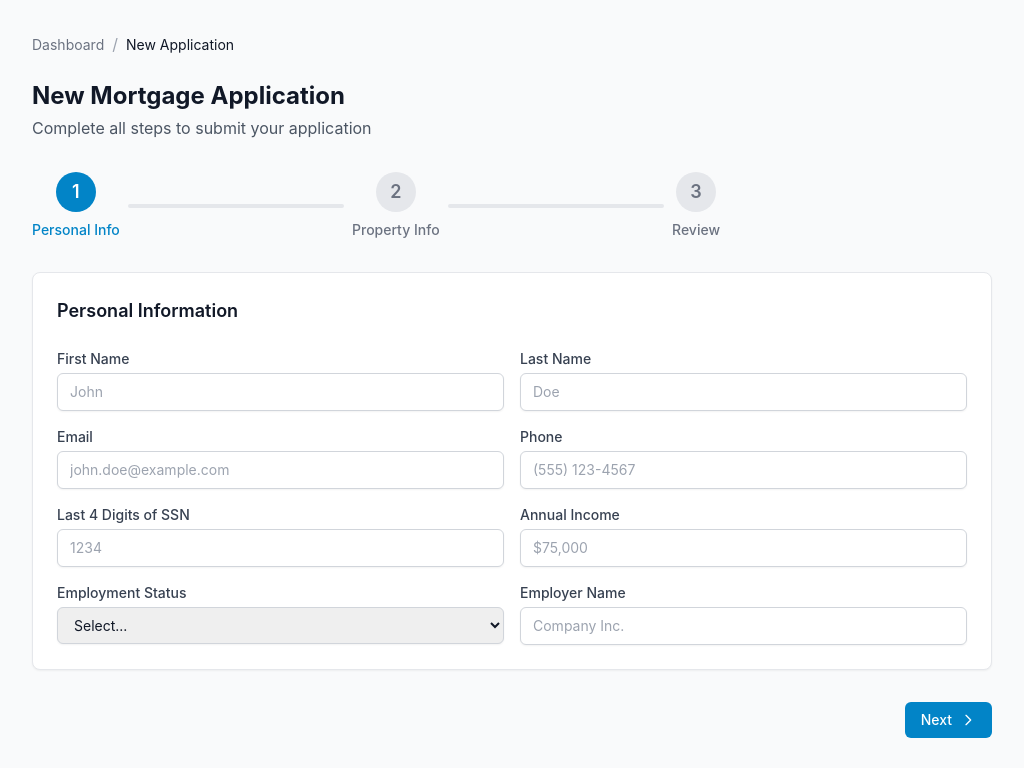
NewApplicationPage › should show validation errors when trying to proceed without filling required fields
Click the button "Next" at [948, 720], box [905,702,992,738]
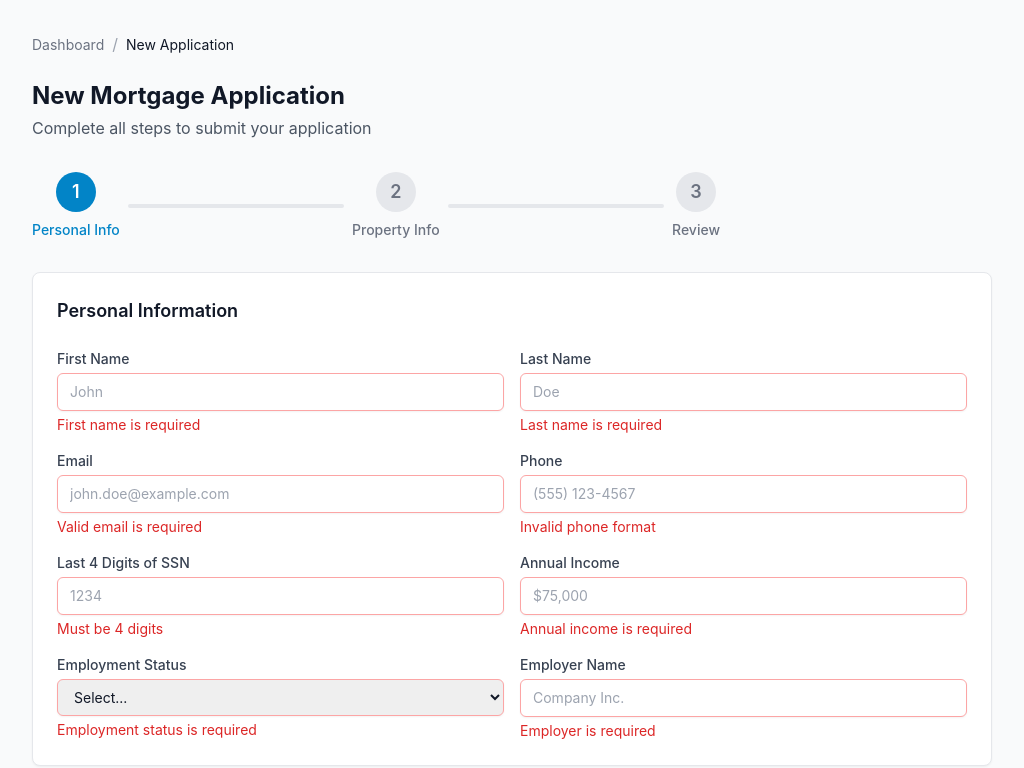
Now the text "First name is required" is shown, box [57,416,200,433]
